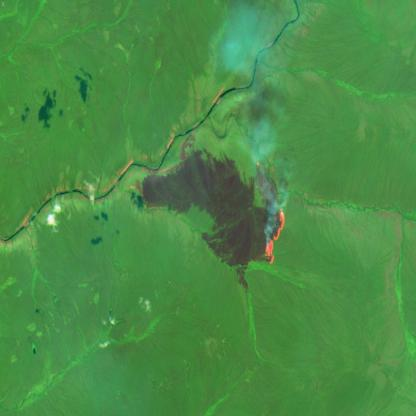fire: (248, 158, 289, 267)
